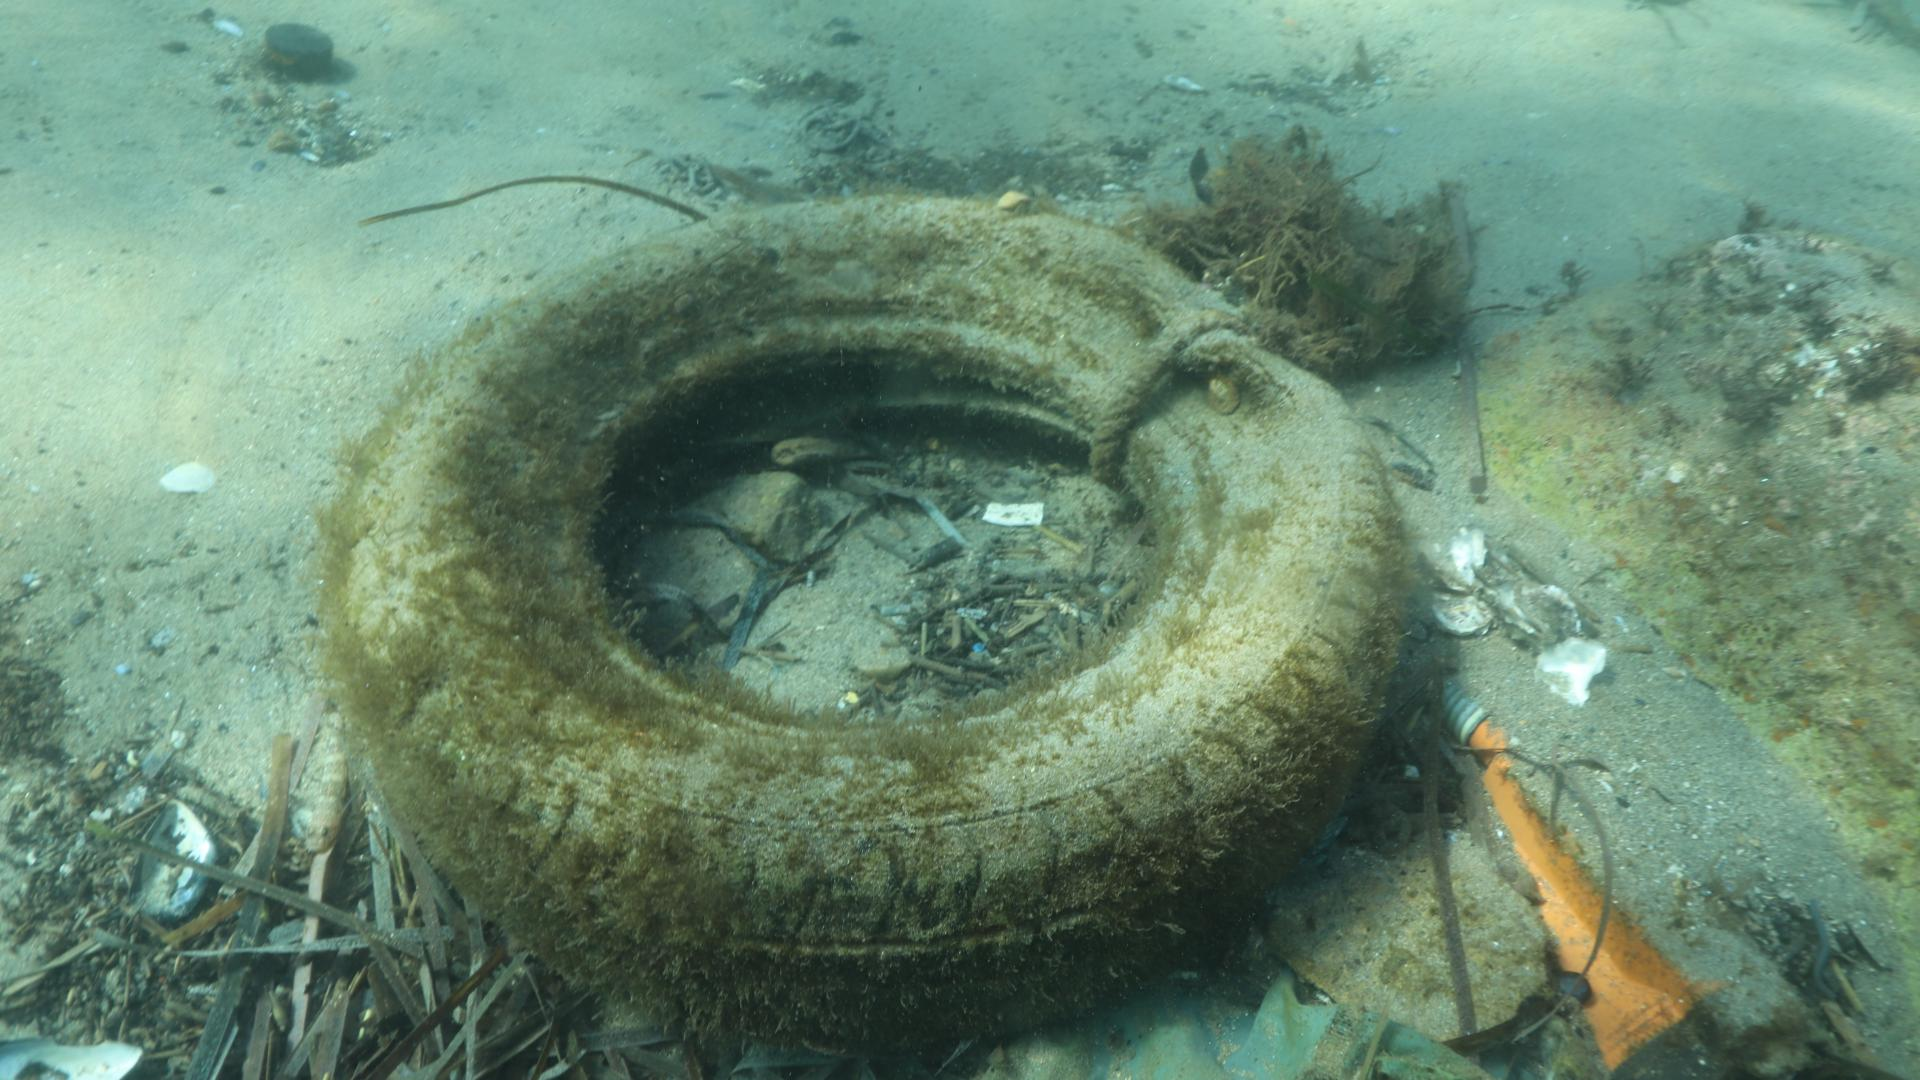rope: (1087, 305, 1249, 483)
tire: (347, 191, 1408, 1062)
